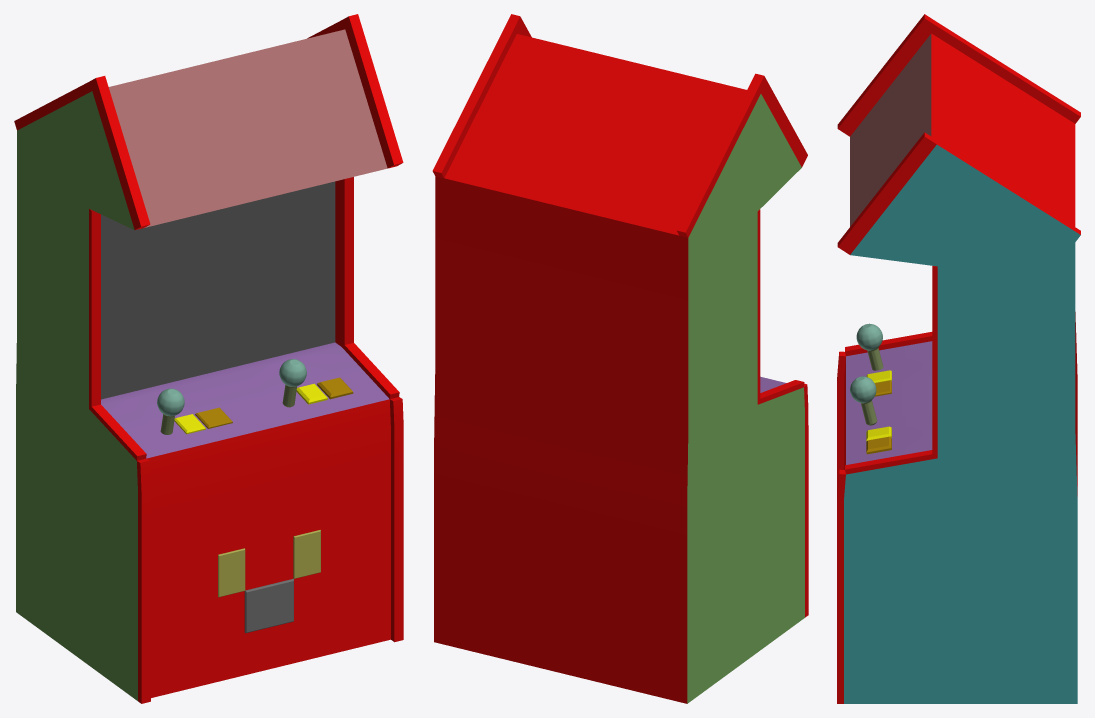
File: arcade_machine.fbx
3 views of the same model, side by side, from view 1: azimuth 30°, elevation 25°; view 2: azimuth 150°, elevation 25°; view 3: azimuth 270°, elevation 25° (orthographic). The views are drawn at different scales.
Visible parts, largest first — view 1: arcade_machine, pSphere2, pSphere1; view 2: arcade_machine; view 3: arcade_machine, pSphere2, pSphere1.
Part boxes in pixels (left/top/right/bottom): arcade_machine: left=14, top=14, right=403, bottom=703; pSphere2: left=279, top=359, right=306, bottom=407; pSphere1: left=157, top=388, right=184, bottom=434; arcade_machine: left=432, top=14, right=808, bottom=703; arcade_machine: left=837, top=14, right=1080, bottom=703; pSphere2: left=850, top=376, right=877, bottom=425; pSphere1: left=856, top=323, right=883, bottom=370.
Bounding box in the file's own units: 1.3 × 2.8 × 1.09.
